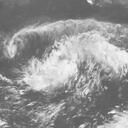cyclone: (23, 42, 86, 94)
